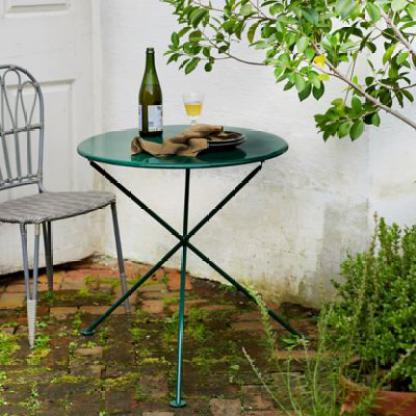table: (74, 118, 310, 412)
